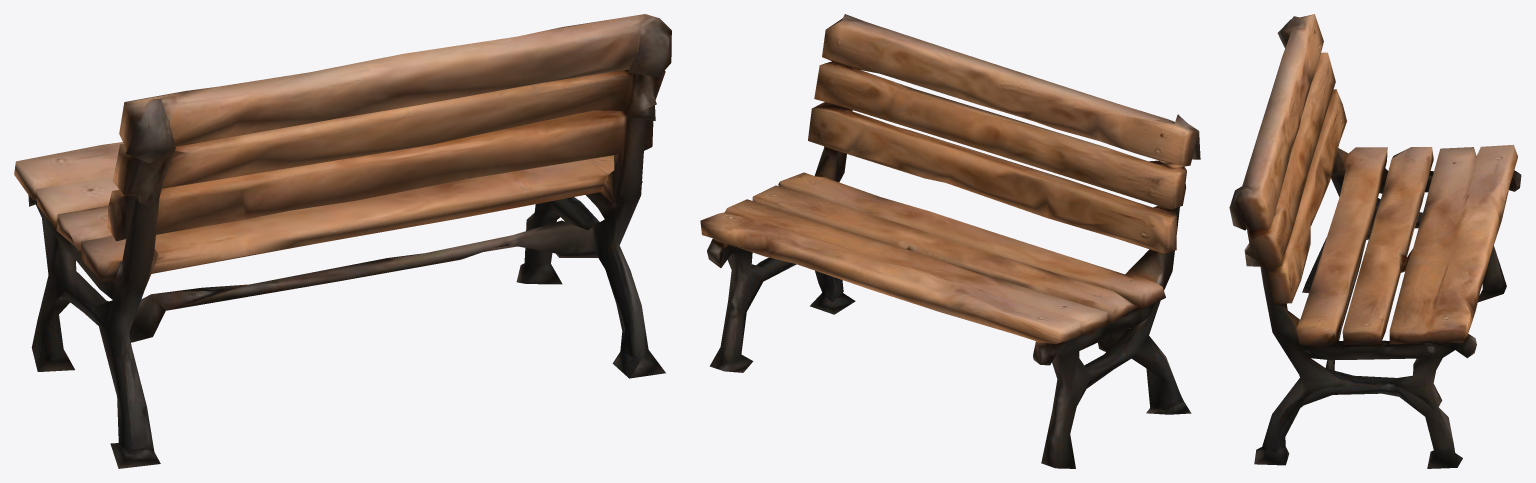
File: banco.glb
3 renders of one model, left to right at view 1: azimuth 30°, elevation 25°; view 2: azimuth 150°, elevation 25°; view 3: azimuth 270°, elevation 25°, orthographic. The views are drawn at different scales.
Parts seen in each view (by area): view 1: tripo_node_95771e5c-a840-4f0b-a76d-5153dac6664a; view 2: tripo_node_95771e5c-a840-4f0b-a76d-5153dac6664a; view 3: tripo_node_95771e5c-a840-4f0b-a76d-5153dac6664a.
Boxes of the visible parts, x1,y1,x2,y2 form: tripo_node_95771e5c-a840-4f0b-a76d-5153dac6664a: (14, 14, 671, 468); tripo_node_95771e5c-a840-4f0b-a76d-5153dac6664a: (700, 14, 1200, 468); tripo_node_95771e5c-a840-4f0b-a76d-5153dac6664a: (1229, 14, 1521, 468).
Bounding box in the file's own units: 1 × 0.6635 × 0.6374.
1 material, 1 textured.
